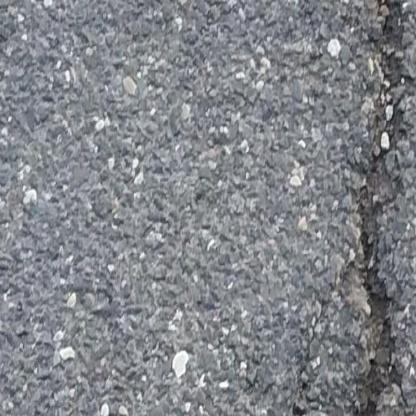Cracks: (349, 0, 411, 416), (290, 343, 313, 416)
